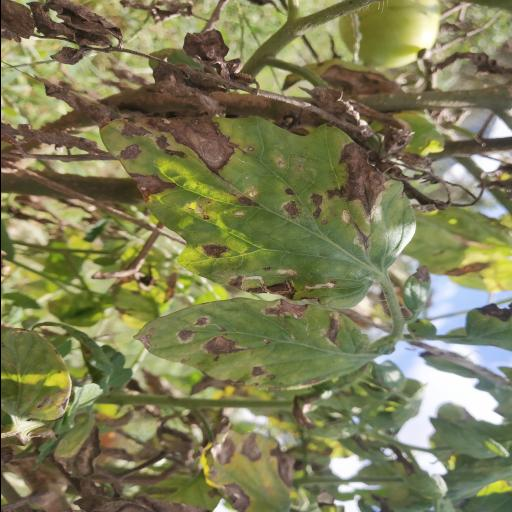disease_tomato: (96, 114, 417, 310), (129, 297, 369, 391)
